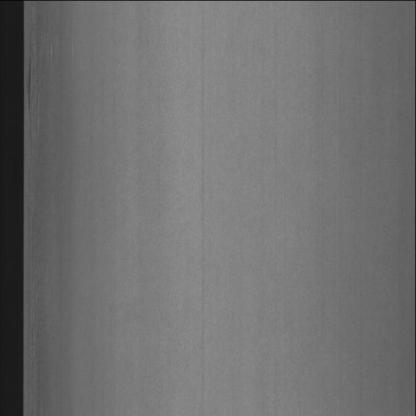silk_spot: (26, 21, 68, 141)
